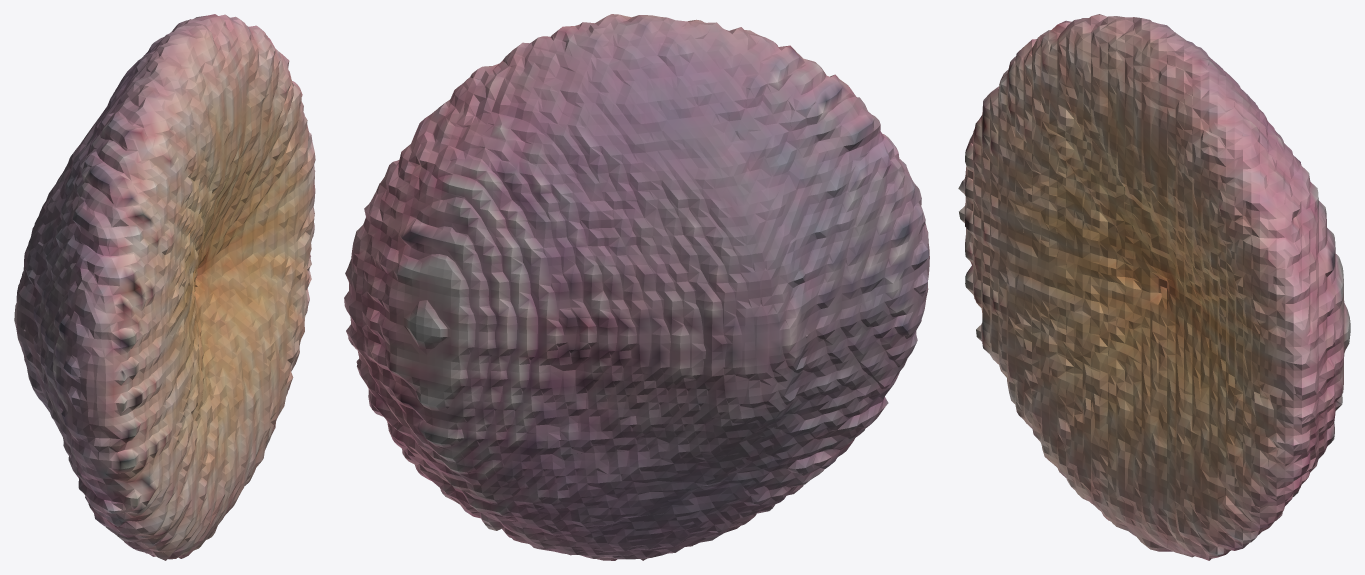
Rendered from coral-mushroom-triposr-01.glb.
3 views of the same model, side by side, from view 1: azimuth 30°, elevation 25°; view 2: azimuth 150°, elevation 25°; view 3: azimuth 270°, elevation 25° (orthographic). The views are drawn at different scales.
Visible parts, largest first — view 1: world; view 2: world; view 3: world.
Boxes of the visible parts, x1=… form: world: x1=14, y1=14, x2=315, y2=560; world: x1=344, y1=14, x2=929, y2=560; world: x1=958, y1=14, x2=1350, y2=560.
Size of the model in its own units: 0.7425 by 0.9152 by 0.6373.
